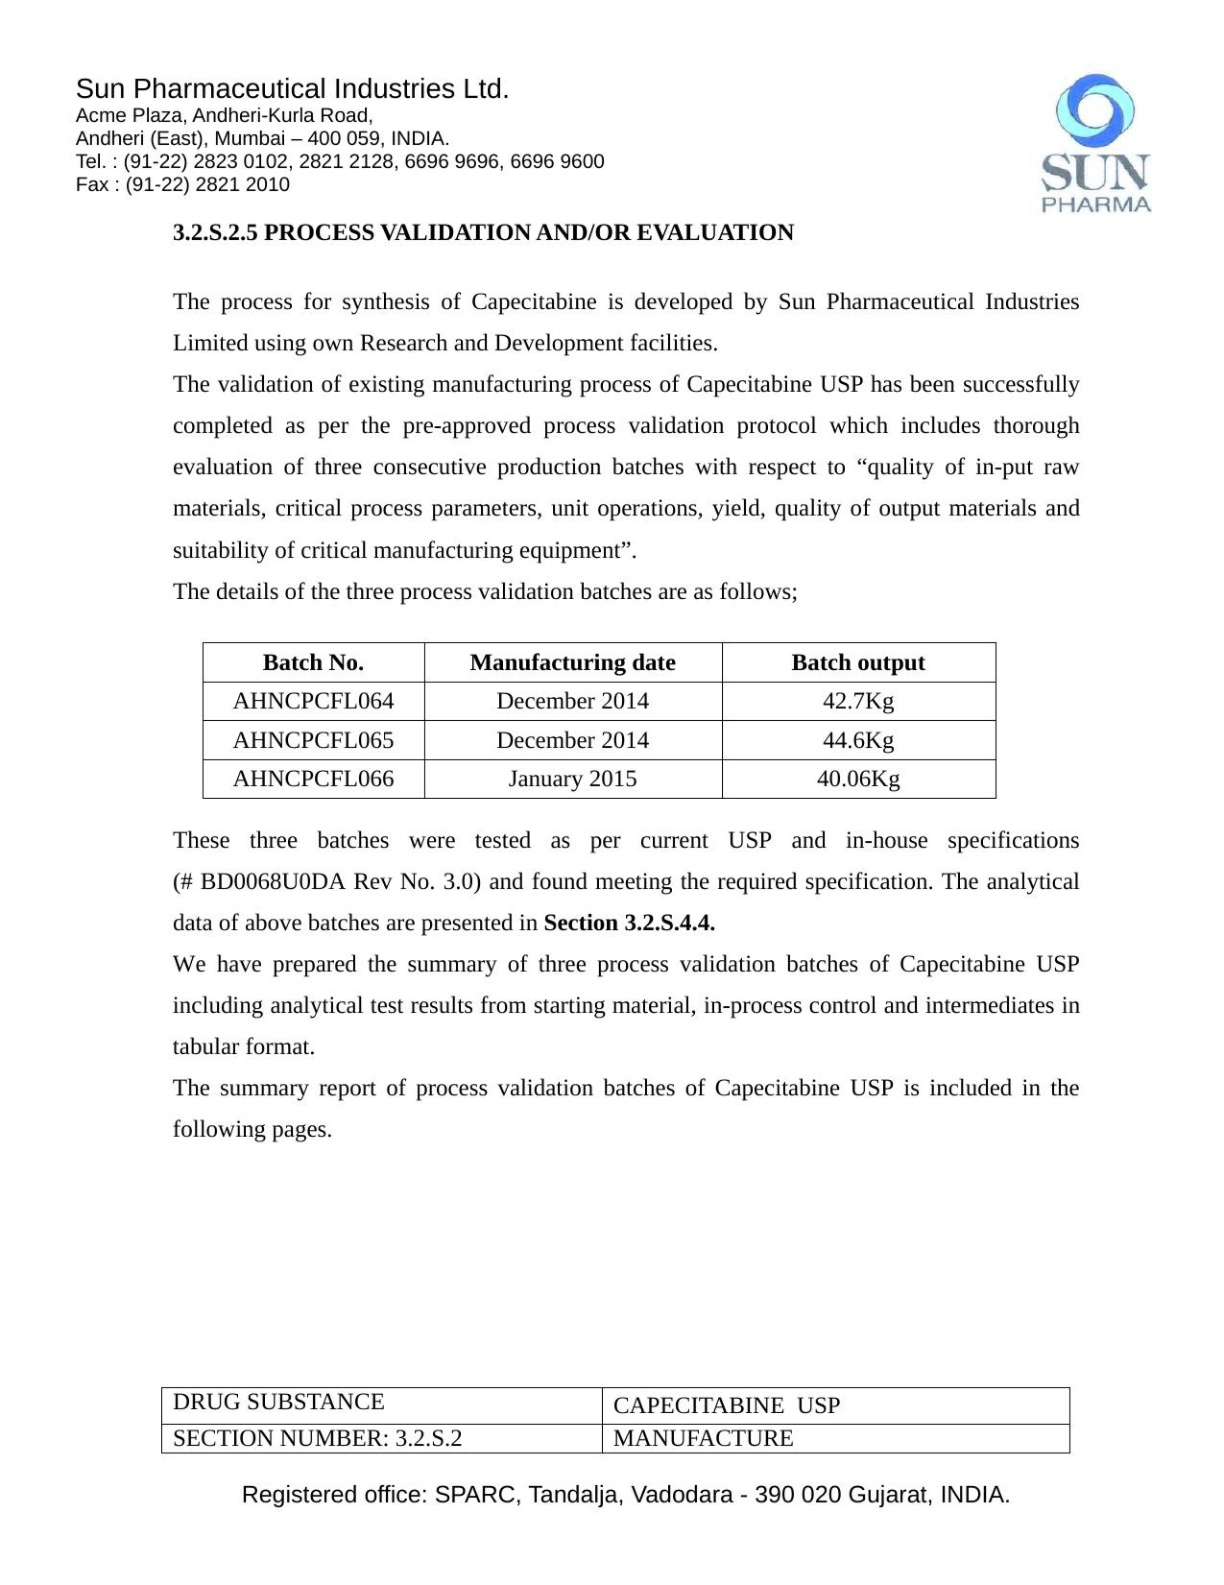full_lined: (201, 640, 999, 800), (161, 1387, 1071, 1454)
